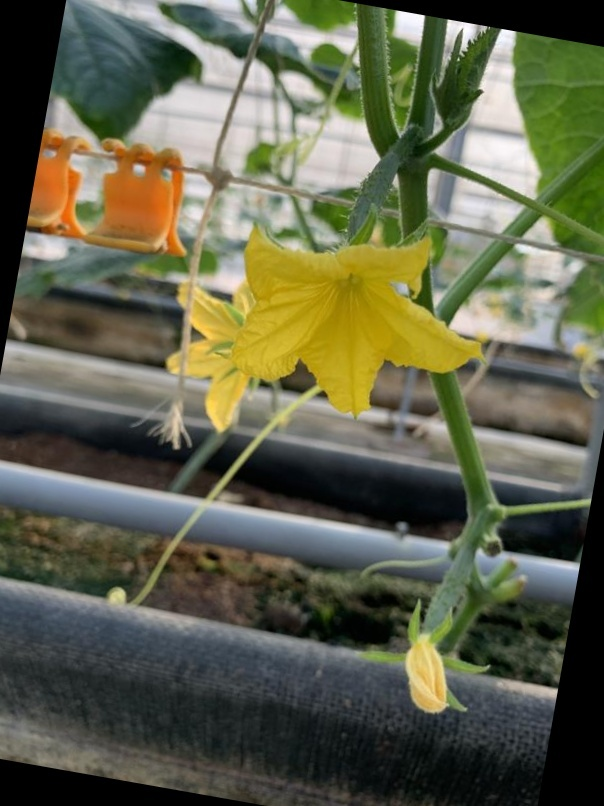flowering: (233, 144, 514, 418)
